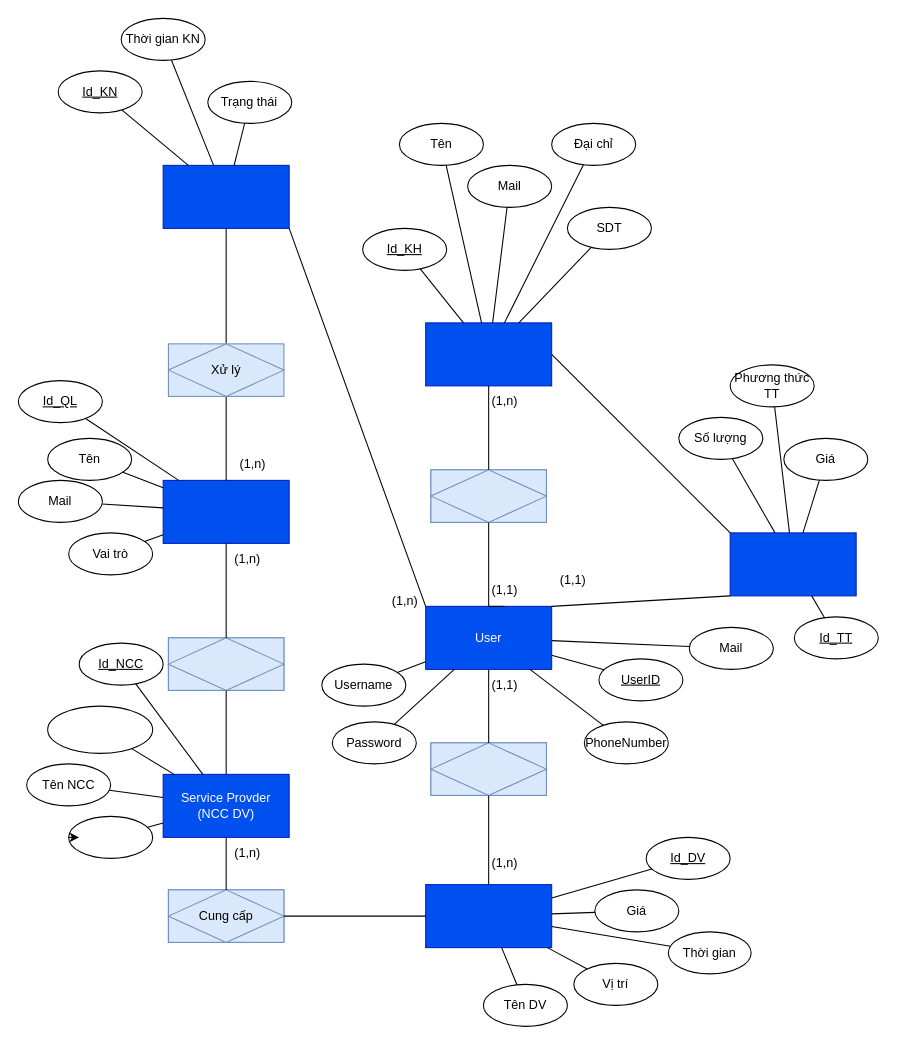
Some shapes in this 897 by 1045 pixel diagram are drawn without their labels. The box of each missing label's shape, as (x1, y1, x2, y2) in pixels:
Admin (Quản lý hệ thống): (162, 479, 289, 543)
Khiếu nại: (162, 164, 289, 228)
Kiểu DV: (68, 815, 153, 858)
Payment: (729, 532, 856, 596)
Quản lý: (167, 637, 284, 690)
Service (Dịch Vụ): (425, 884, 552, 948)
Thông tin liên hệ: (47, 705, 153, 753)
User (Khách Hàng): (425, 322, 552, 386)
Được đặt /Liên quan: (430, 742, 546, 795)
Đặt: (430, 469, 546, 522)
